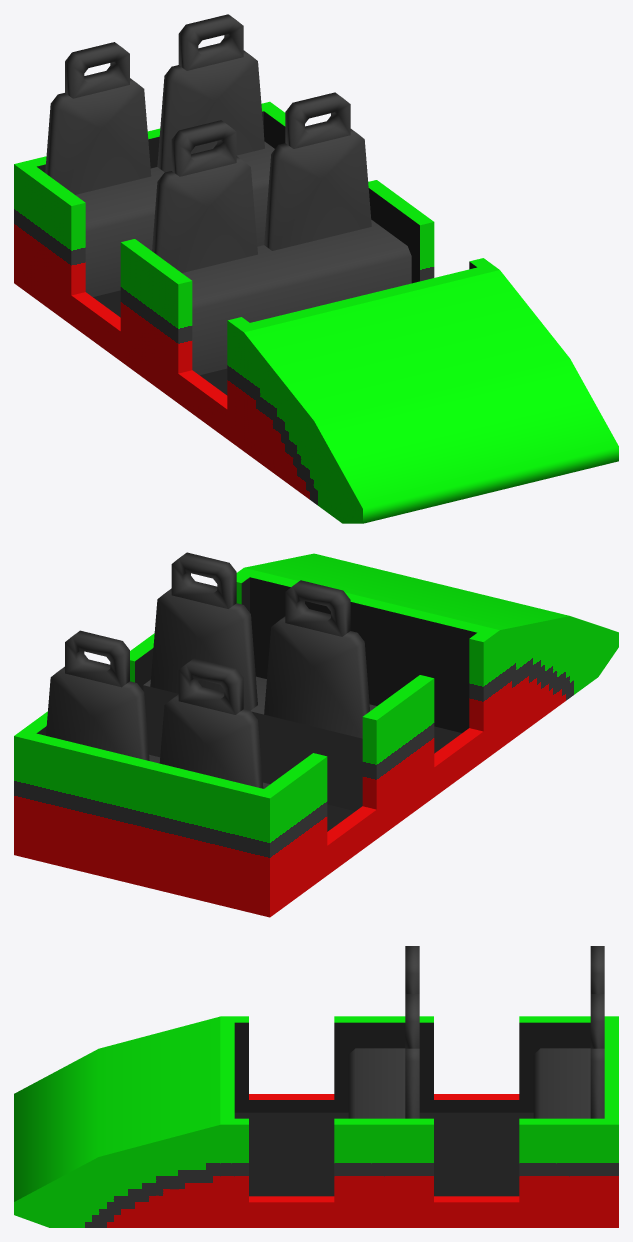
File: car1.glb
3 views of the same model, one above another, from view 1: azimuth 30°, elevation 25°; view 2: azimuth 150°, elevation 25°; view 3: azimuth 270°, elevation 25° (orthographic). The views are drawn at different scales.
Visible parts, largest first — view 1: surface, cylinder (×4), seat-front, middle (×2), tube (×4), back (×3), right, seat-back, front (×2), footer-back, footer-front, base; view 2: back (×2), cylinder (×4), front (×2), tube (×4), middle (×2), right, surface, plane, footer-back, footer-front, base; view 3: surface, back (×3), middle (×2), base, left, front (×3), footer-back (×2), footer-front (×2), seat-front, seat-back, tube (×4), cylinder (×2).
Boxes of the visible parts, x1,y1,x2,y2 form: surface: (244, 270, 618, 523); cylinder (×4): (45, 50, 371, 272); seat-front: (182, 220, 411, 375); middle (×2): (120, 180, 434, 402); tube (×4): (65, 14, 350, 176); back (×3): (14, 101, 285, 324); right: (244, 333, 362, 523); seat-back: (75, 142, 274, 296); front (×2): (227, 267, 498, 451); footer-back: (71, 292, 120, 360); footer-front: (178, 370, 227, 438); base: (93, 290, 227, 395); back (×2): (14, 733, 327, 917); cylinder (×4): (46, 588, 369, 788); front (×2): (244, 568, 499, 760); tube (×4): (65, 552, 350, 714); middle (×2): (130, 633, 434, 838); right: (500, 616, 618, 748); surface: (244, 553, 569, 629); plane: (143, 685, 362, 811); footer-back: (327, 806, 376, 875); footer-front: (434, 728, 483, 796); base: (327, 726, 461, 831); surface: (14, 1016, 220, 1201); back (×3): (519, 1016, 618, 1227); middle (×2): (334, 1016, 433, 1227); base: (234, 1112, 533, 1196); left: (14, 1125, 220, 1227); front (×3): (220, 1016, 248, 1227); footer-back (×2): (434, 1094, 519, 1227); footer-front (×2): (249, 1094, 334, 1227); seat-front: (348, 1048, 405, 1118); seat-back: (533, 1048, 590, 1118); tube (×4): (405, 946, 604, 1048); cylinder (×2): (405, 1048, 604, 1118).
Size of the model in its own units: 1.12 by 0.9434 by 2.66.
1 material, 1 textured.
